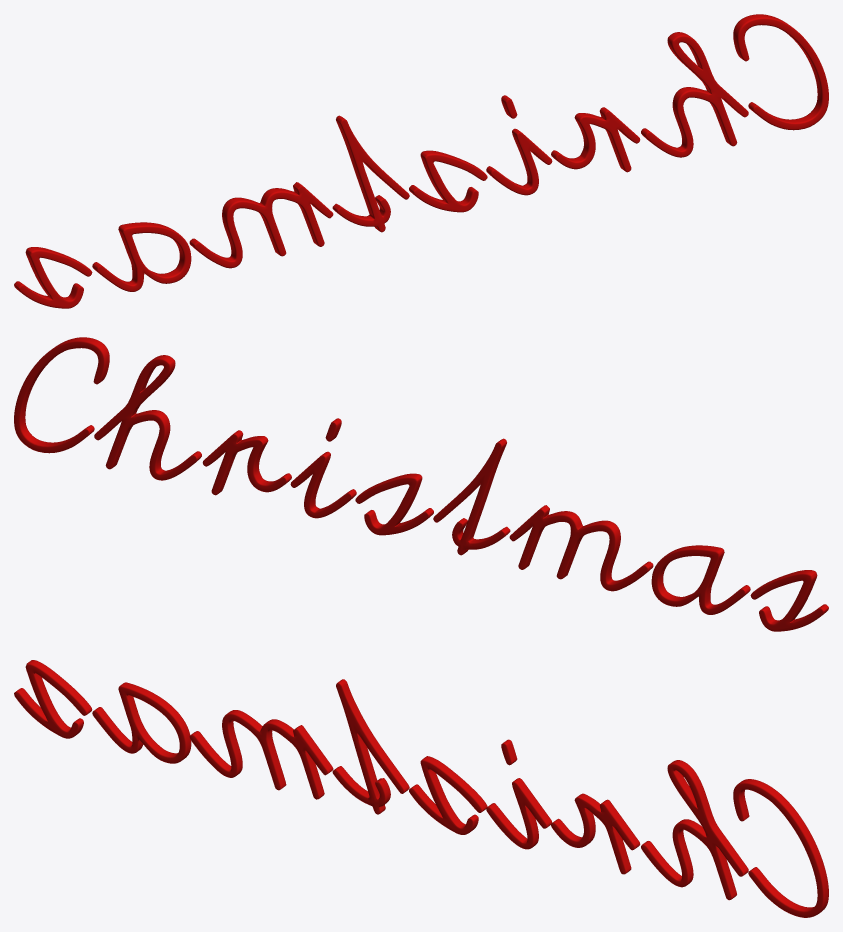
The model's file is Merry_Red_0.obj.
3 renders of one model, top to bottom at view 1: azimuth 30°, elevation 25°; view 2: azimuth 150°, elevation 25°; view 3: azimuth 330°, elevation 25°, orthographic.
Visible parts, largest first — view 1: Merry_Red_0; view 2: Merry_Red_0; view 3: Merry_Red_0.
Part boxes in pixels (x1,y1,x2,y2): Merry_Red_0: [14, 14, 828, 308]; Merry_Red_0: [14, 337, 828, 631]; Merry_Red_0: [14, 660, 828, 917].
Size of the model in its own units: 1.57 by 0.2292 by 0.0185.
